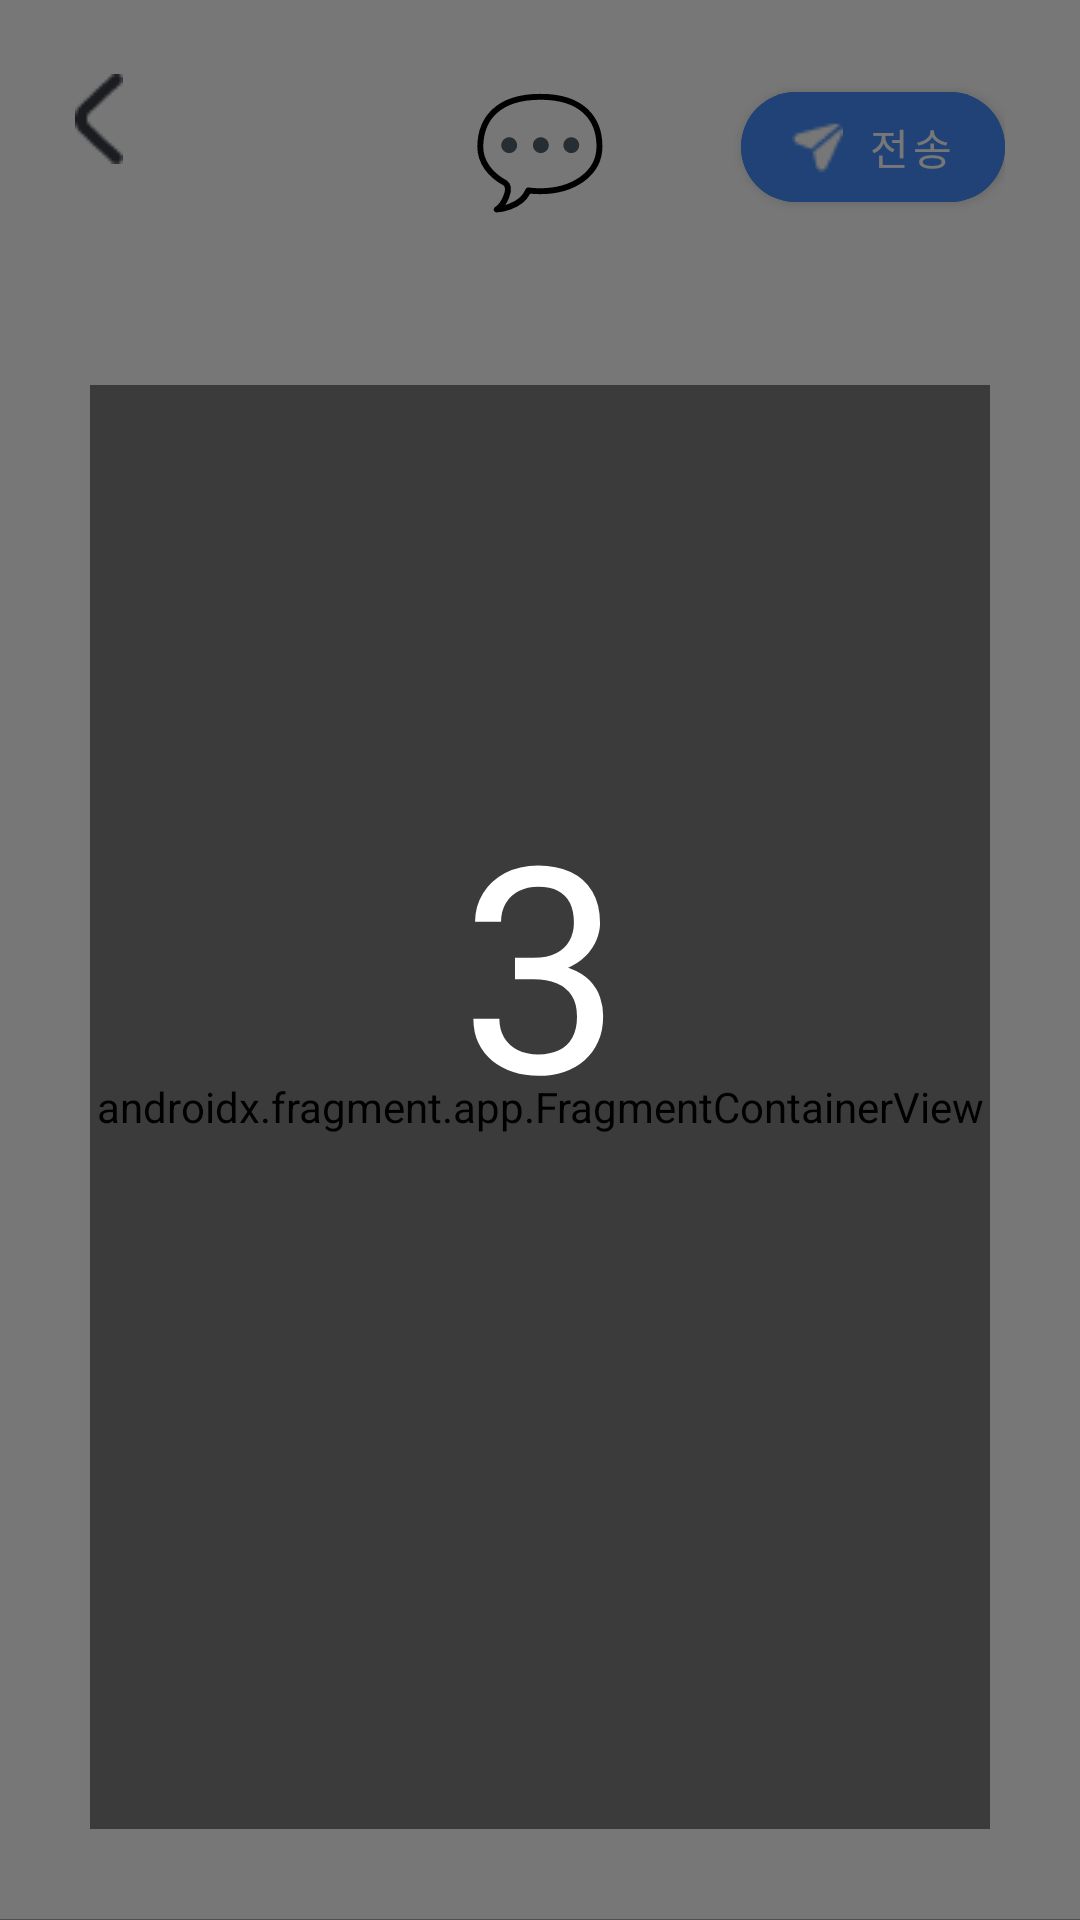

Locate icon controls on the screen. Image size 1080 × 1920, boxes as (x1, y1, x2, y2).
back: (75, 74, 123, 164)
